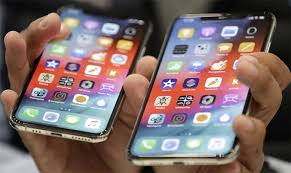iphone: (8, 7, 160, 140)
iphone10: (9, 8, 161, 141)
